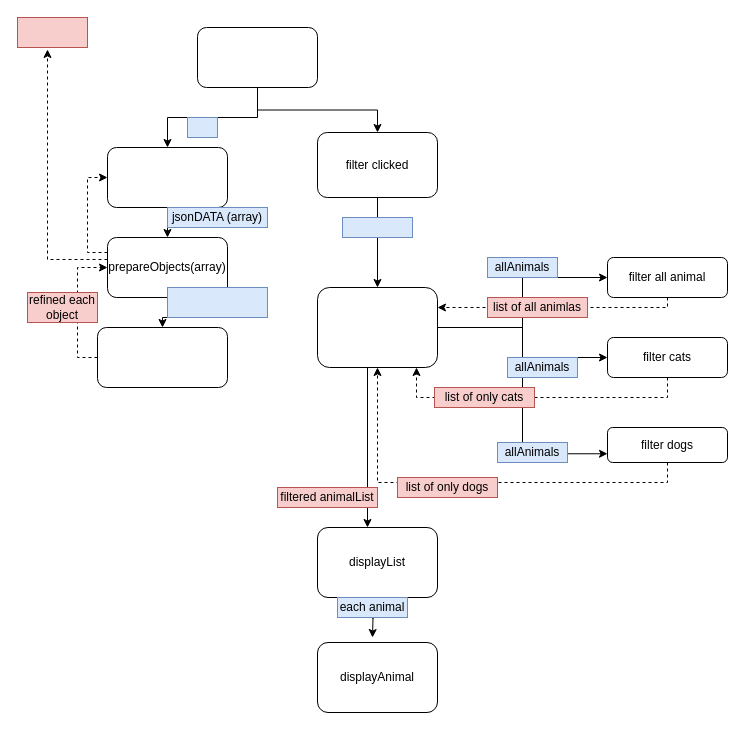
Image size: 745x730. Some labels were removed from this diagram. The centre of each missing label's shape, as x and y in pixels:
"allAnimal = new array" belongs at [52,32].
"button name" belongs at [377,227].
"each object in jsonDATA" belongs at [217,302].
"filterAnimal(button)" belongs at [377,327].
"loadJSON" belongs at [167,177].
"prepareObject (each object in array)" belongs at [162,357].
"start (when DOMcontentloaded)" belongs at [257,57].
"url" belongs at [202,127].
